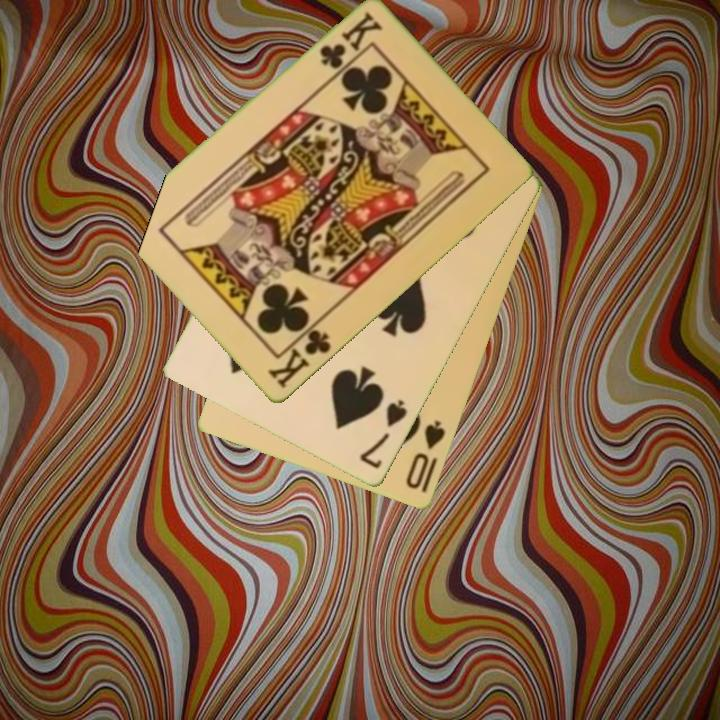10s: (402, 417, 449, 493)
7s: (356, 396, 411, 472)
Kc: (264, 318, 334, 392), (315, 8, 384, 73)
